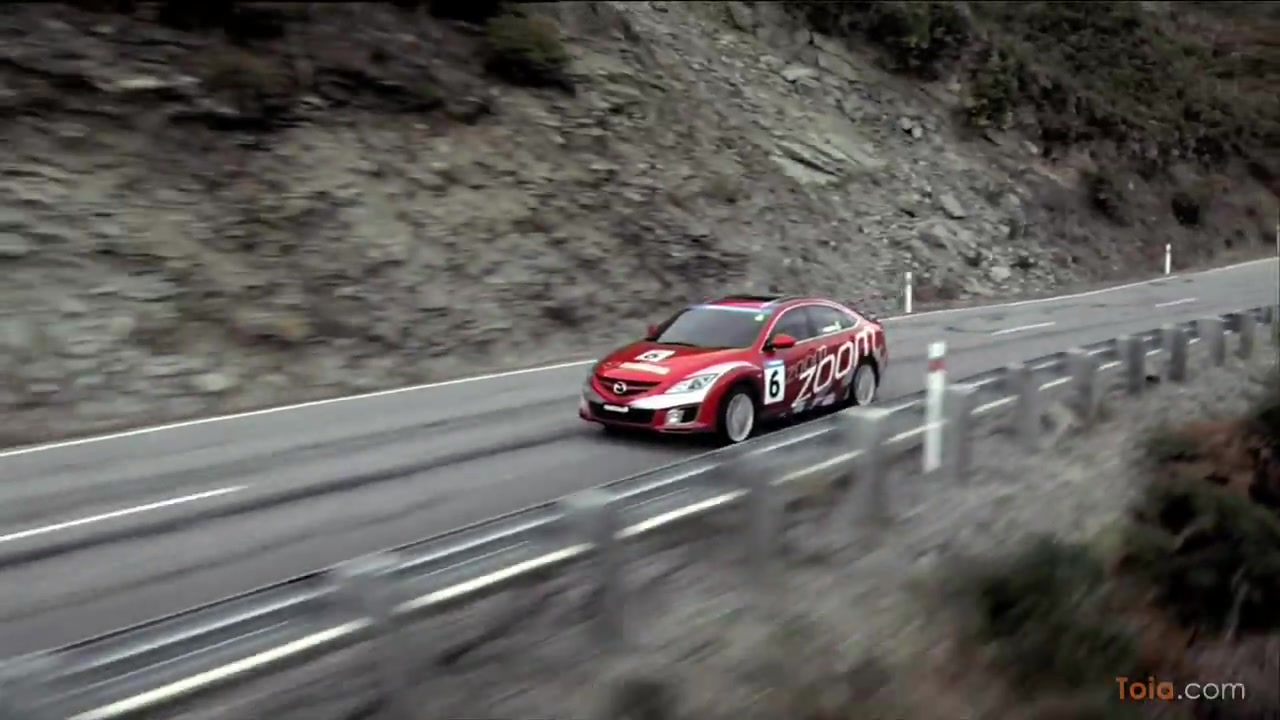car: (579, 297, 894, 448)
